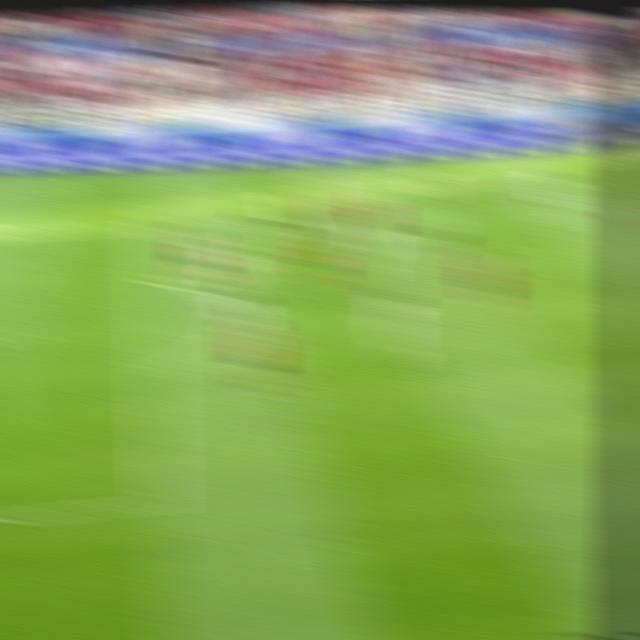bigarea_bottom_inner: (138, 486, 182, 516)
bigarea_top_inner: (137, 218, 170, 233)
bottom_arc_area_intersection: (133, 361, 180, 394)
top_arc_area_intersection: (136, 273, 172, 296)
